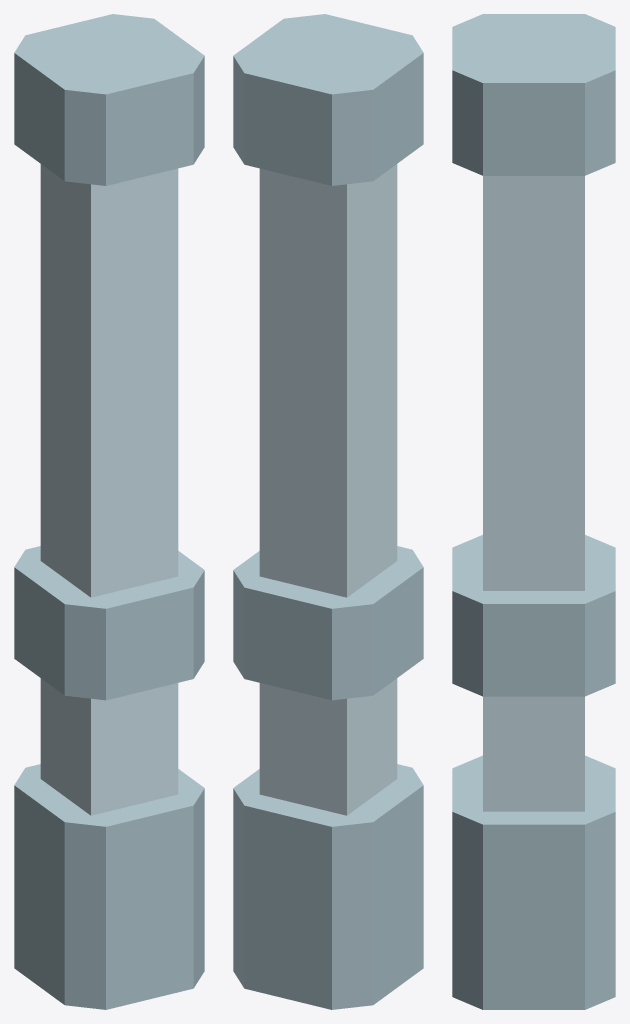
3 renders of one model, left to right at view 1: azimuth 30°, elevation 25°; view 2: azimuth 150°, elevation 25°; view 3: azimuth 270°, elevation 25°, orthographic.
Visible parts, largest first — view 1: pillarStone; view 2: pillarStone; view 3: pillarStone.
Boxes of the visible parts, x1,y1,x2,y2 form: pillarStone: [14, 14, 204, 1009]; pillarStone: [233, 14, 423, 1009]; pillarStone: [452, 14, 615, 1009].
Size of the model in its own units: 0.16 by 1 by 0.16.
